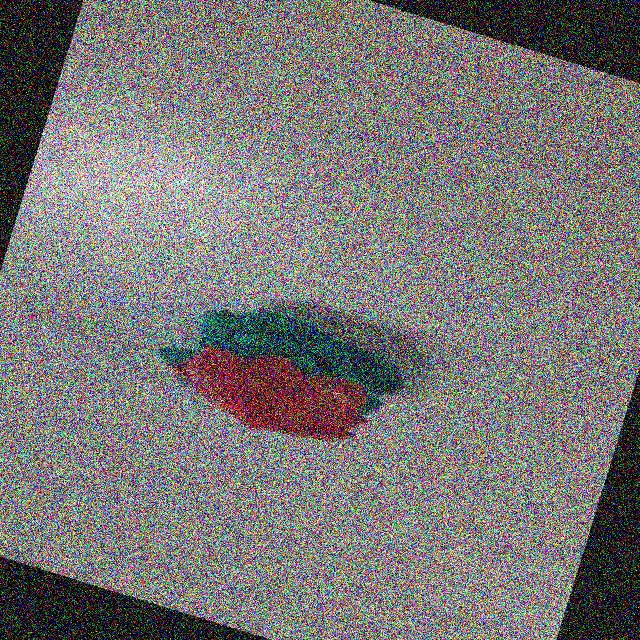House: (149, 283, 430, 475)
